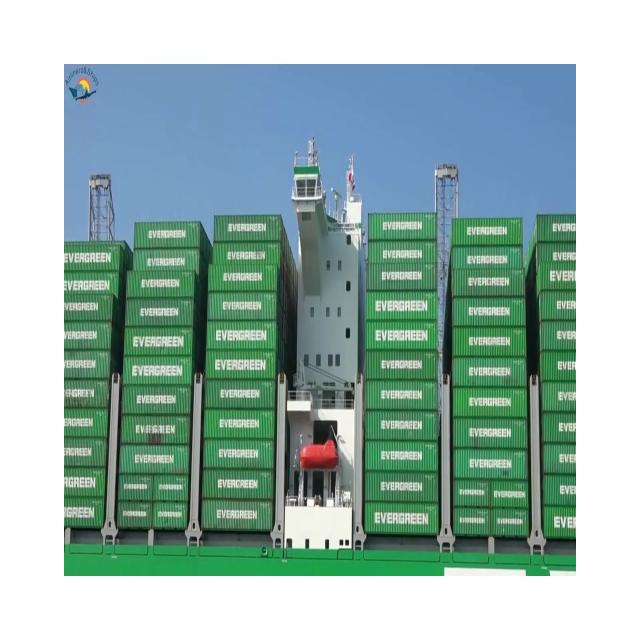OCR: (216, 346, 267, 379), (368, 320, 429, 343), (371, 505, 430, 527)
